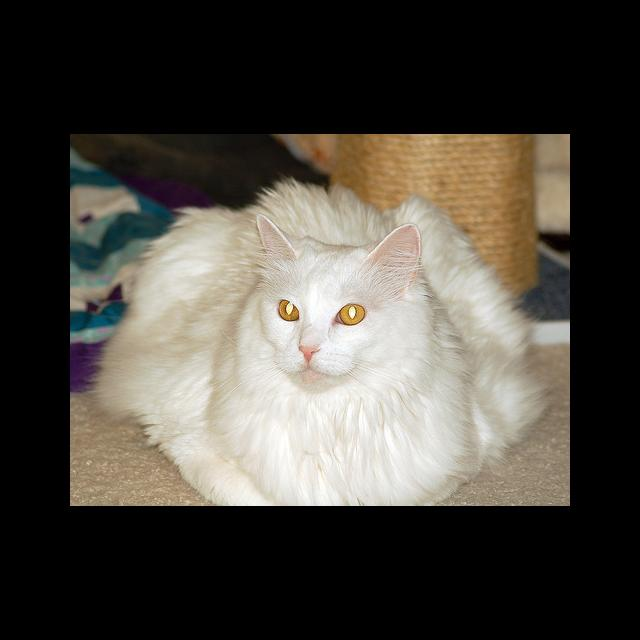animals: (259, 214, 413, 360)
